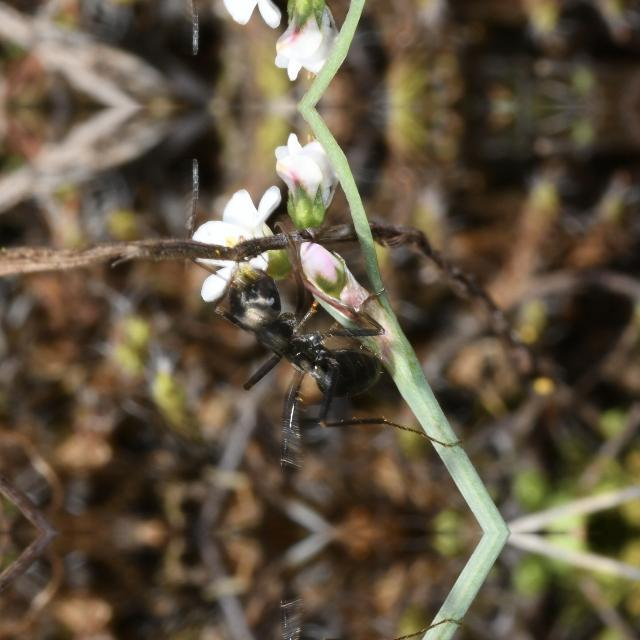Cataglyphis: (173, 257, 424, 455)
